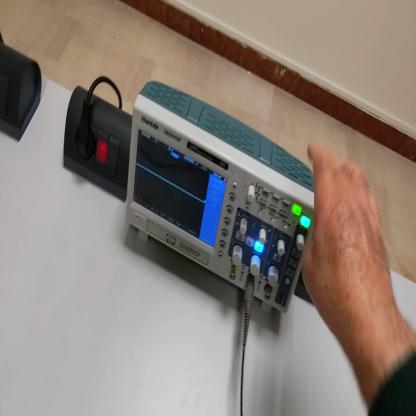hand: (301, 140, 397, 342)
oscilloscope: (128, 78, 315, 314)
socket: (64, 90, 134, 205), (2, 41, 43, 148)
